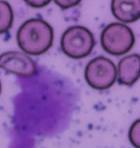D: (0, 62, 81, 145)
